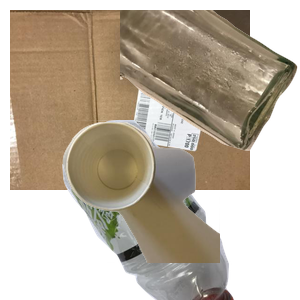cardboard: (10, 10, 250, 190)
glass: (120, 10, 300, 153)
plastic: (25, 120, 252, 300)
trash: (60, 120, 300, 300)
